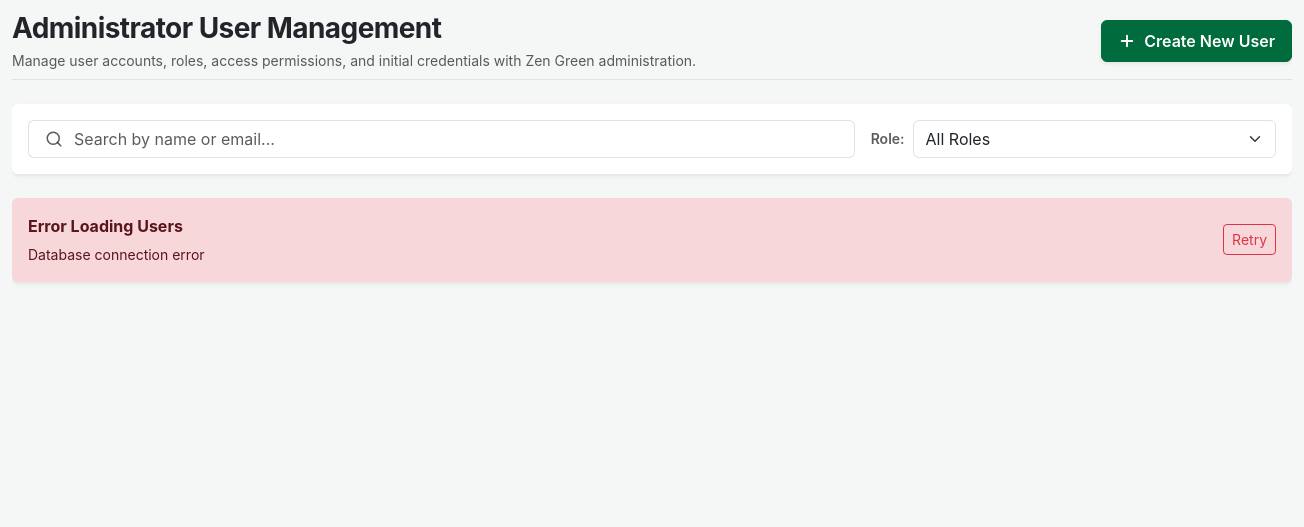
Scenario: UserManagementView Component (Issue 27 / FR-15..20 / AC-09..12) › renders error banner with retry button on API load failure
The image size is (1304, 527).
Expected: the text "Error Loading Users" is shown, [28,214,205,238]
Expected: the text "Database connection error" is shown, [28,246,205,263]
Click the button "Retry". click: (1250, 240)
box: [1223,224,1276,255]
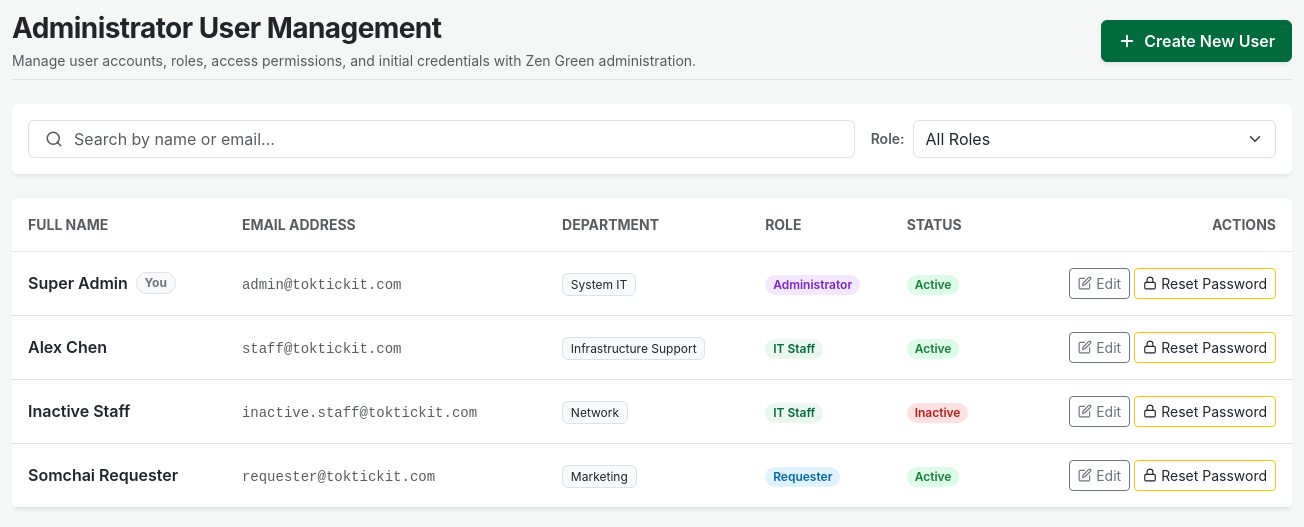
Expected: the table with test id "user-table" is shown, [12,198,1292,508]
